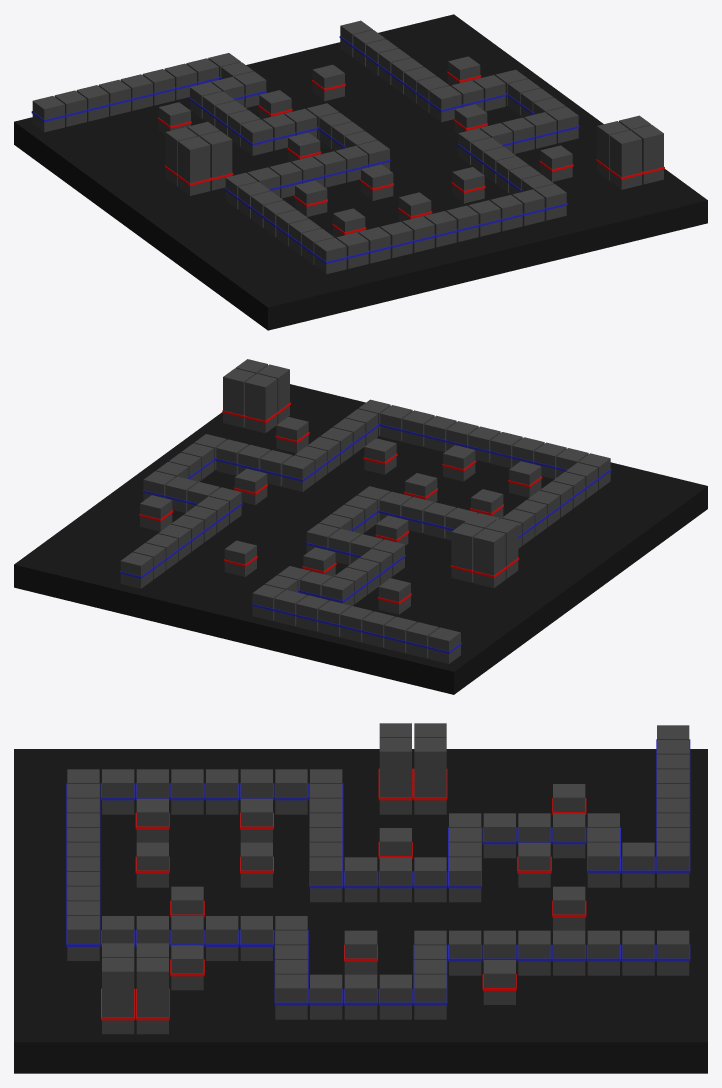
File: GameArea.FBX
3 renders of one model, top to bottom at view 1: azimuth 30°, elevation 25°; view 2: azimuth 150°, elevation 25°; view 3: azimuth 270°, elevation 25°, orthographic. The views are drawn at different scales.
Visible parts, largest first — view 1: Ground, Path; view 2: Ground, Path; view 3: Ground, Path.
Part boxes in pixels (box(x1,y1,x2,y2)): Ground: box(14, 14, 707, 330); Path: box(31, 20, 664, 274); Ground: box(14, 384, 707, 694); Path: box(119, 359, 611, 663); Ground: box(14, 749, 707, 1073); Path: box(66, 723, 690, 1034).
Size of the model in its own units: 1181 by 1181 by 177.
